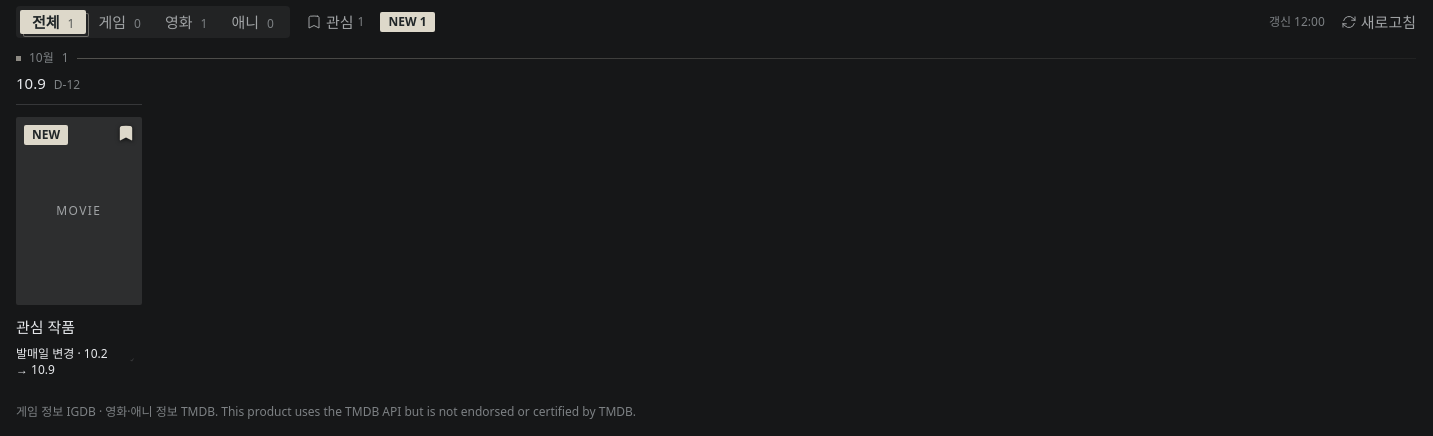
it: ReleaseCalendarView › shows unread movie wishlist changes until they are acknowledged by id
This screenshot has width=1433, height=436.
Expected: the text "발매일 변경 · 10.2 → 10.9" is shown, [16, 346, 118, 378]
Expected: the text "NEW 1" is shown, [380, 12, 434, 32]
Click the button "관심 1" at (335, 22), box [298, 8, 372, 36]
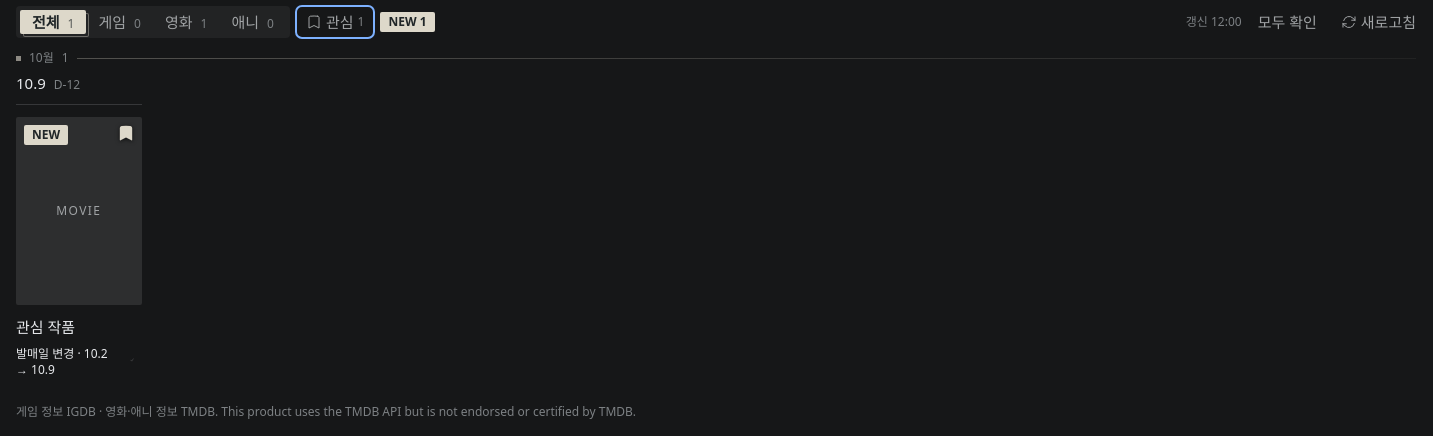
Now the button "모두 확인" is shown, box [1250, 8, 1325, 36]
Click the button named "관심 작품 알림 확인" at (132, 360), box [122, 346, 142, 374]
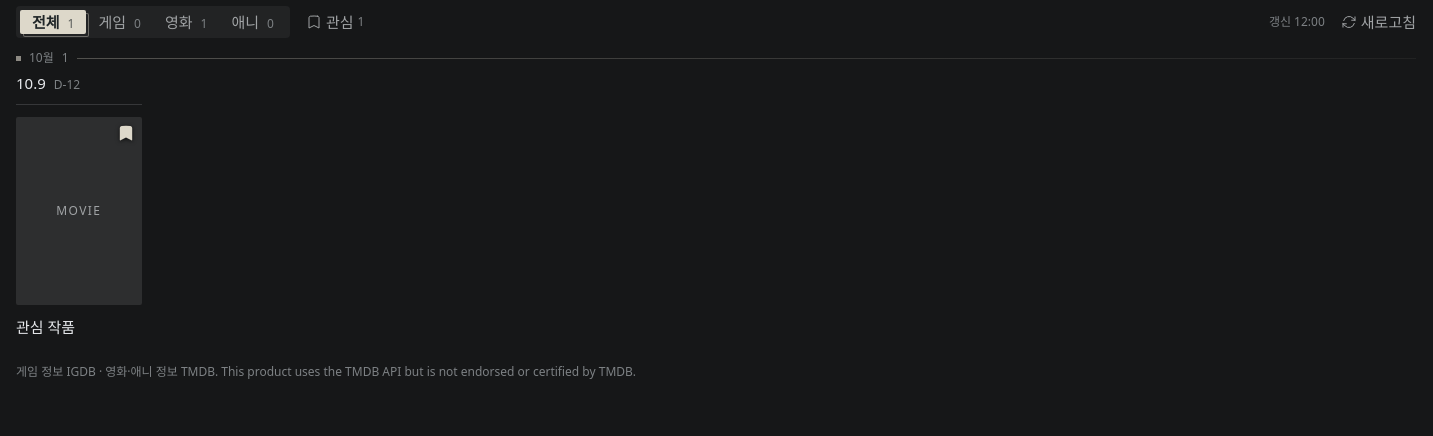
Now the text "발매일 변경" is gone
